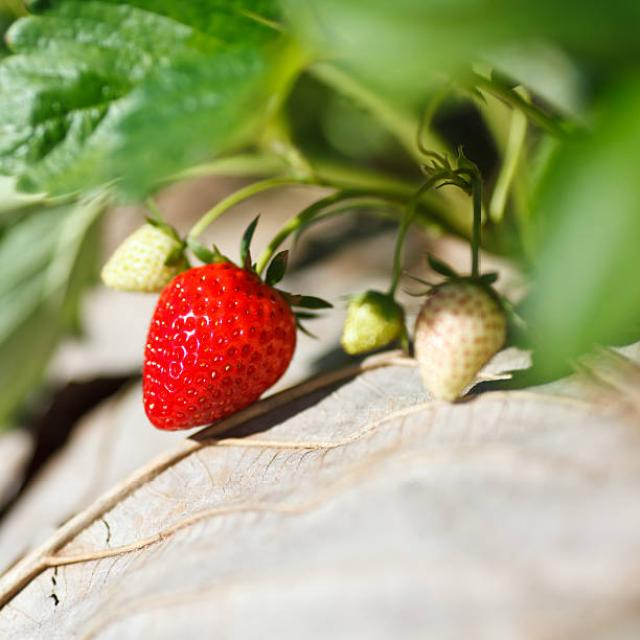Healthy Fruit: (142, 263, 297, 433)
